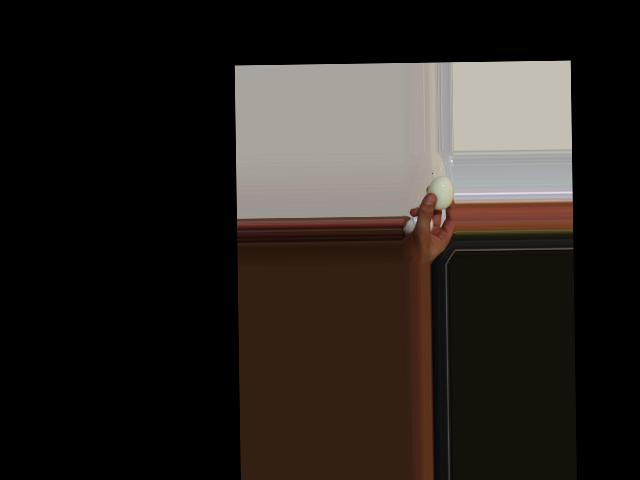egg: (426, 176, 454, 209)
